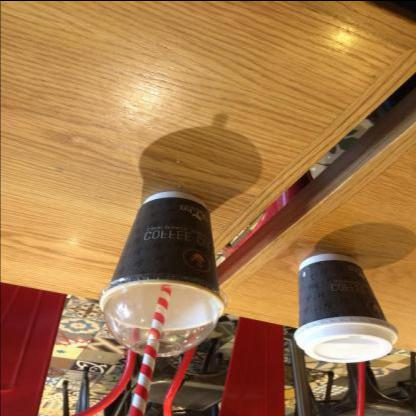Cup: (99, 190, 224, 328), (298, 253, 388, 327)
Lid: (98, 273, 228, 356), (294, 316, 399, 362)
Straw: (128, 284, 172, 416)
